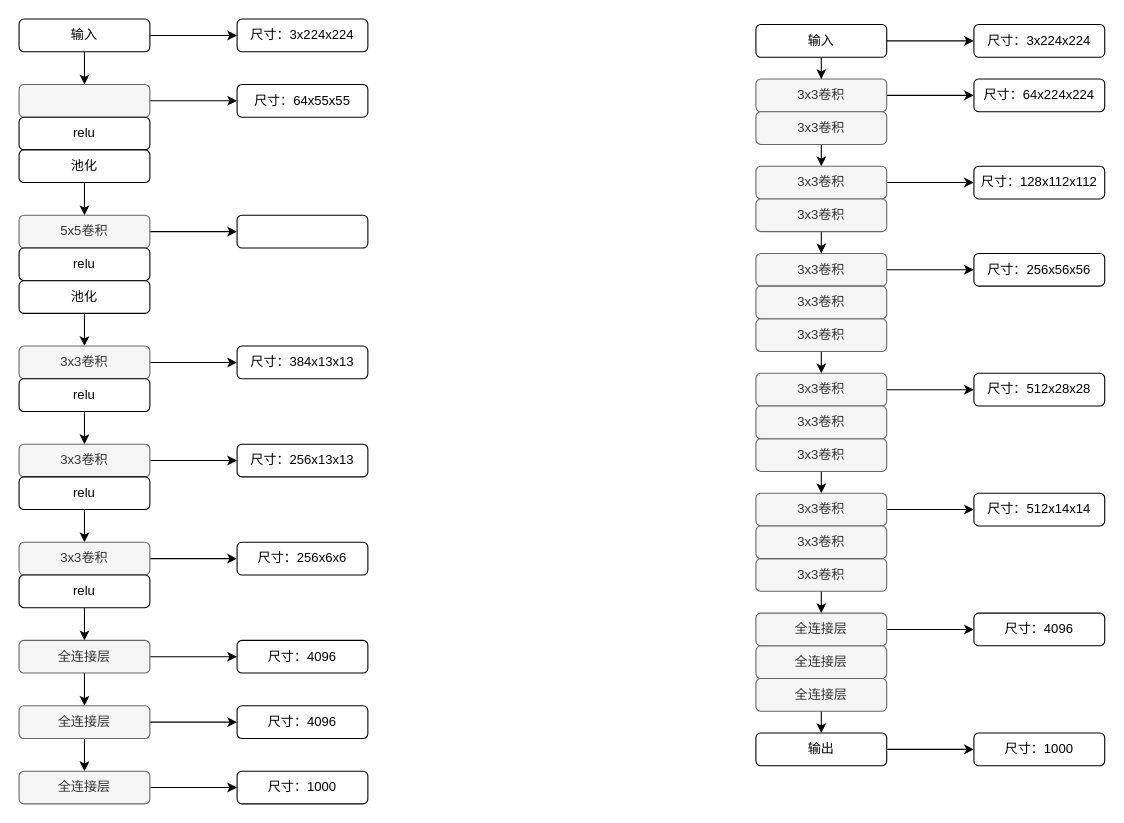
Image size: 1124x823. Some labels were removed from this diagram. The centre of each missing label's shape, as x and y in pixels:
"11x11卷积" belongs at (x=84, y=100).
"尺寸：192x27x27" belongs at (x=302, y=231).
